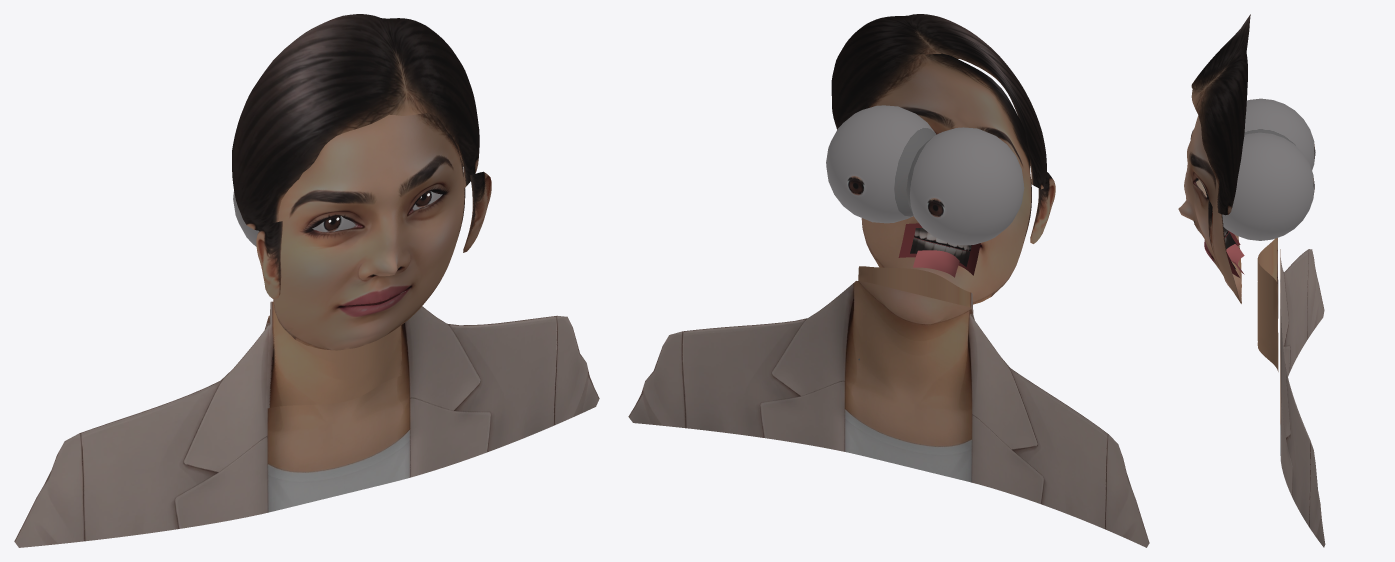
The model's file is tara.glb.
The picture shows the model from 3 angles, left to right: view 1: azimuth 30°, elevation 25°; view 2: azimuth 150°, elevation 25°; view 3: azimuth 270°, elevation 25°; orthographic projection. The views are drawn at different scales.
Visible parts, largest first — view 1: Body, Head, Hair, Neck, Ears, Eye_L; view 2: Body, Head, Eye_L, Hair, Eye_R, Neck, Ears, Tongue, Cavity; view 3: Body, Eye_R, Hair, Head, Neck, Eye_L.
Boxes of the visible parts, x1,y1,x2,y2 form: Body: (14,291,599,547); Head: (273,113,465,350); Hair: (232,14,479,230); Neck: (266,301,402,408); Ears: (256,171,491,298); Eye_L: (233,191,355,246); Body: (628,281,1149,547); Head: (859,53,1031,304); Eye_L: (906,127,1024,245); Hair: (831,14,1046,189); Eye_R: (826,105,936,223); Neck: (858,266,973,313); Ears: (1030,172,1055,243); Tongue: (913,250,959,277); Cavity: (898,223,980,275); Body: (1280,249,1325,547); Eye_R: (1206,132,1314,240); Hair: (1191,14,1250,215); Head: (1178,115,1241,303); Neck: (1257,238,1278,371); Eye_L: (1244,98,1315,170).
Bounding box in the file's own units: 2.43 × 1.97 × 0.8887.
Materials: 8 (5 with a texture image).
